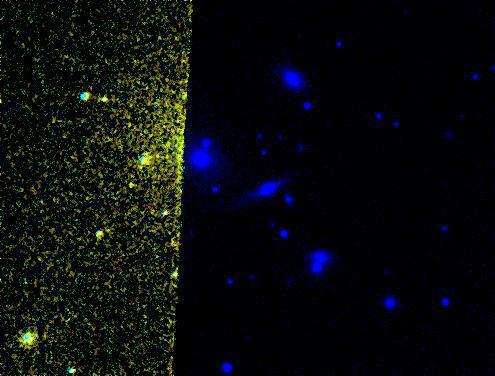star: (115, 170, 145, 200)
